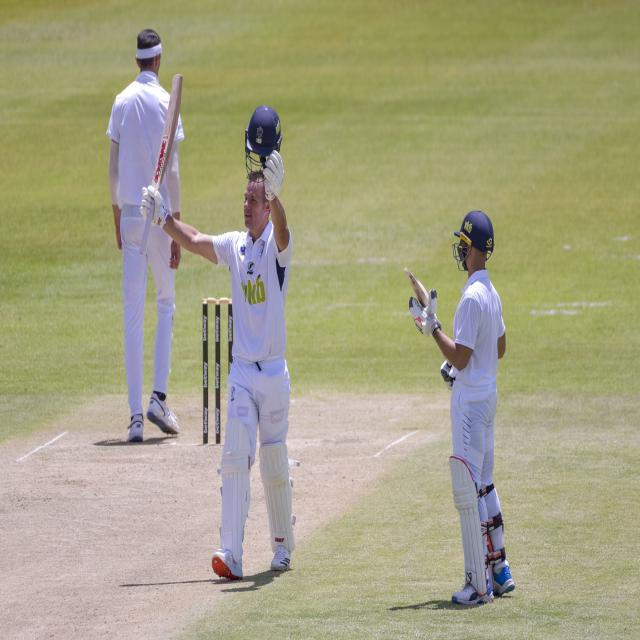stump: (202, 294, 233, 444)
